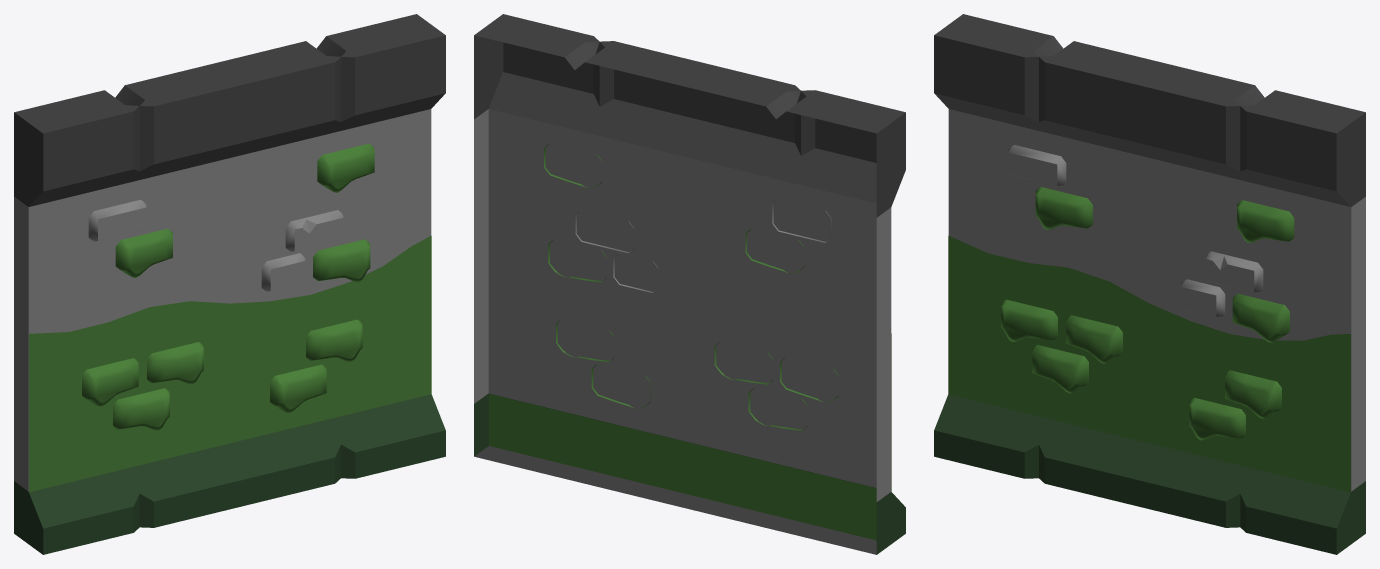
The model's file is wall_mossy.fbx.
3 views of the same model, side by side, from view 1: azimuth 30°, elevation 25°; view 2: azimuth 150°, elevation 25°; view 3: azimuth 330°, elevation 25° (orthographic).
Visible parts, largest first — view 1: wall.mossy; view 2: wall.mossy; view 3: wall.mossy.
Part boxes in pixels (x1,y1,x2,y2): wall.mossy: (14,14,445,554); wall.mossy: (474,14,905,554); wall.mossy: (934,14,1365,554).
Bounding box in the file's own units: 400 × 400 × 50.
